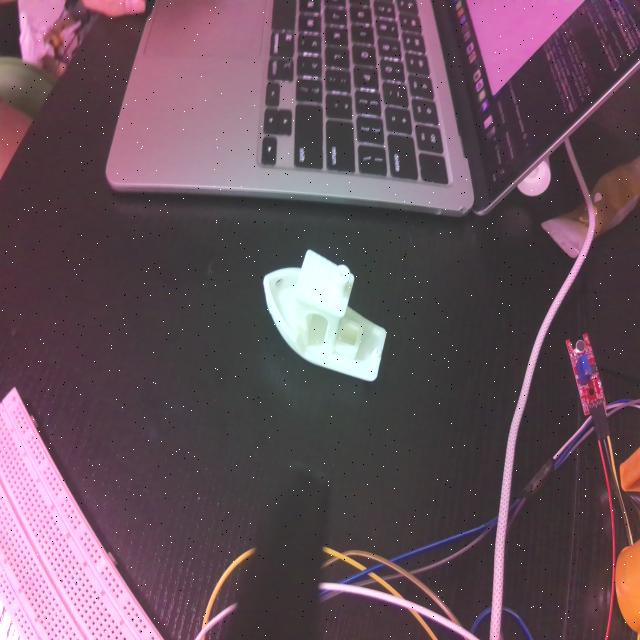ship: (264, 247, 388, 383)
